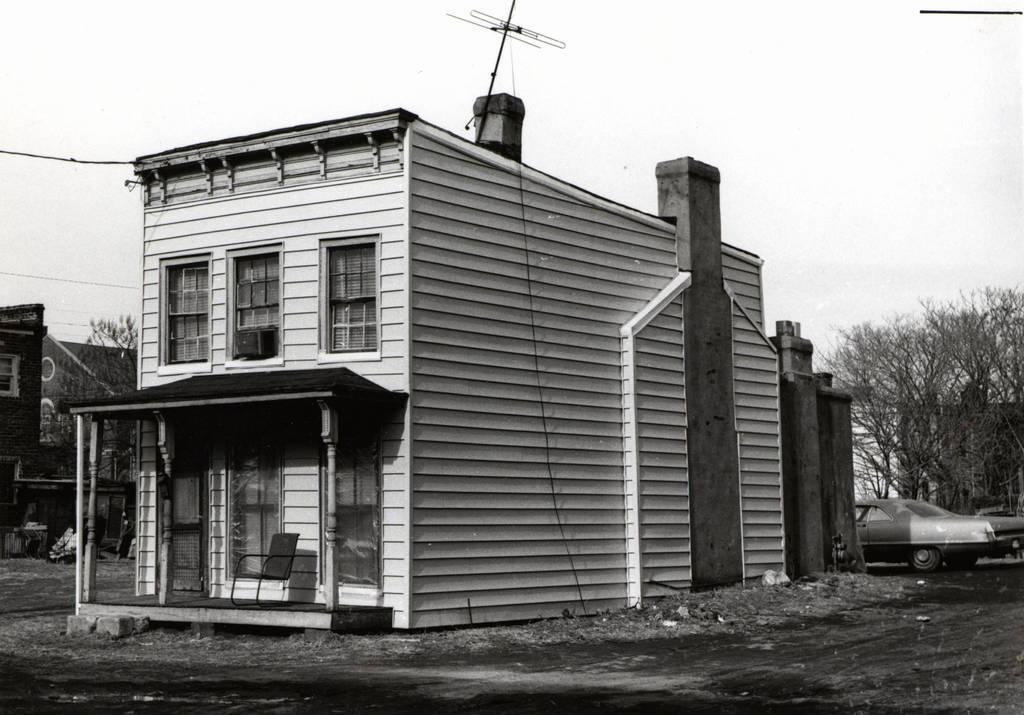door: (162, 471, 204, 585)
